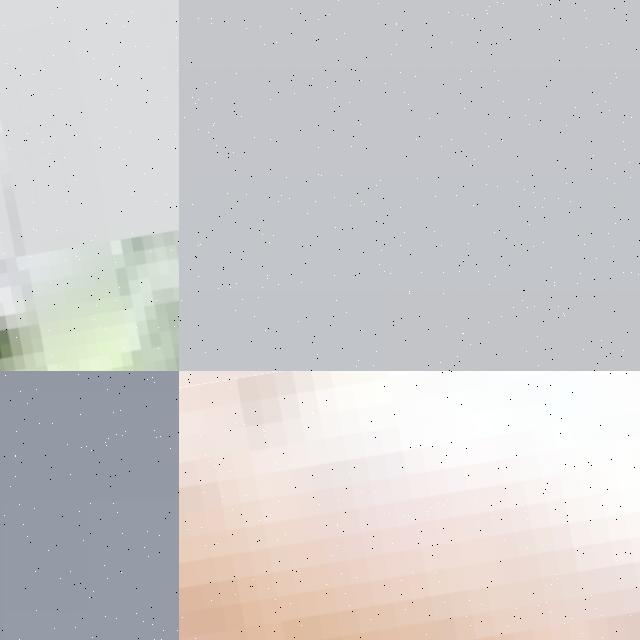drone: (179, 371, 640, 640), (0, 0, 179, 371)
